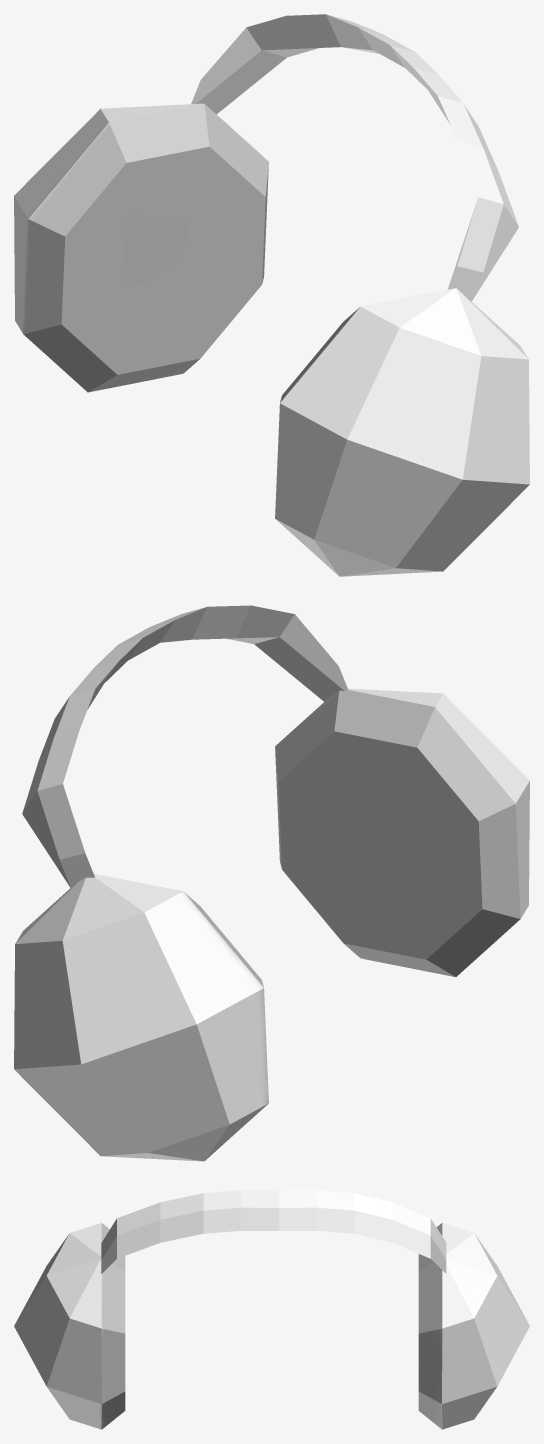
The model's file is headphones.fbx.
3 views of the same model, one above another, from view 1: azimuth 30°, elevation 25°; view 2: azimuth 150°, elevation 25°; view 3: azimuth 270°, elevation 25° (orthographic). The views are drawn at different scales.
Visible parts, largest first — view 1: Sphere.001, Sphere, Cube; view 2: Sphere.001, Sphere, Cube; view 3: Sphere.001, Sphere, Cube.
Part boxes in pixels (left/top/right/bottom): Sphere.001: left=275, top=288, right=529, bottom=576; Sphere: left=14, top=103, right=268, bottom=392; Cube: left=191, top=14, right=518, bottom=301; Sphere.001: left=275, top=688, right=529, bottom=976; Sphere: left=14, top=873, right=268, bottom=1161; Cube: left=22, top=605, right=347, bottom=887; Sphere.001: left=14, top=1223, right=125, bottom=1429; Sphere: left=418, top=1223, right=529, bottom=1429; Cube: left=101, top=1190, right=446, bottom=1273.
Size of the model in its own units: 50.3 by 66.26 by 116.
3 materials, 3 textured.
